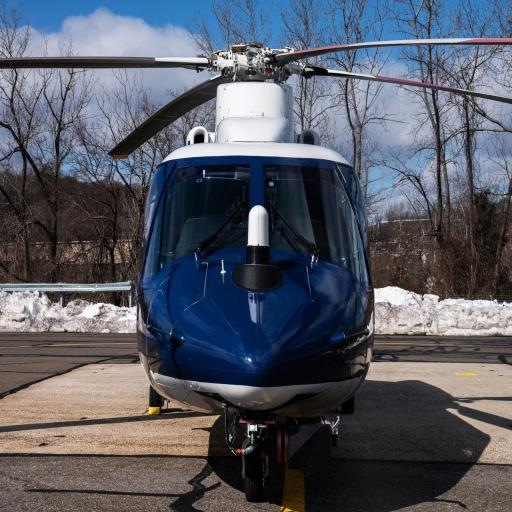helicopter: (62, 20, 498, 495)
